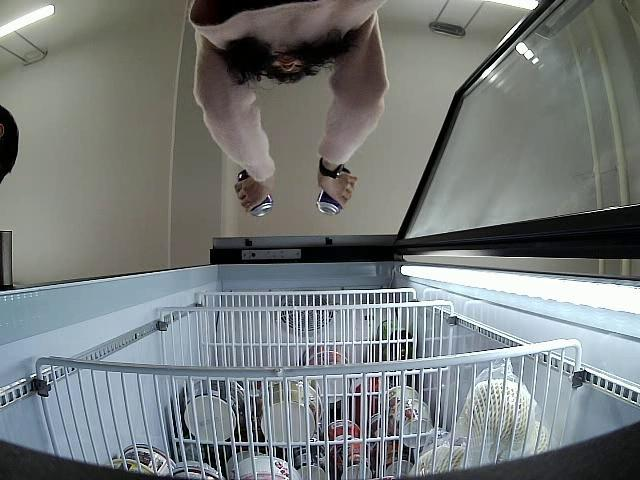14_welchsGrape: (236, 169, 273, 218), (319, 166, 354, 215)
